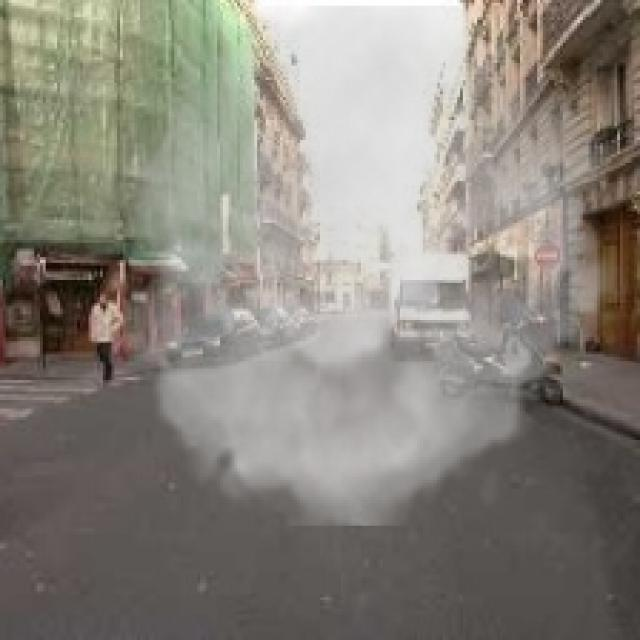smoke: (95, 6, 634, 526)
